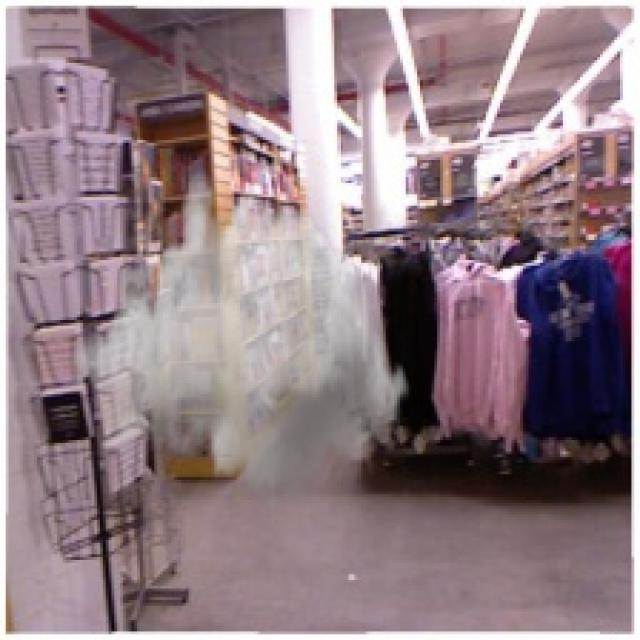smoke: (69, 166, 412, 517)
